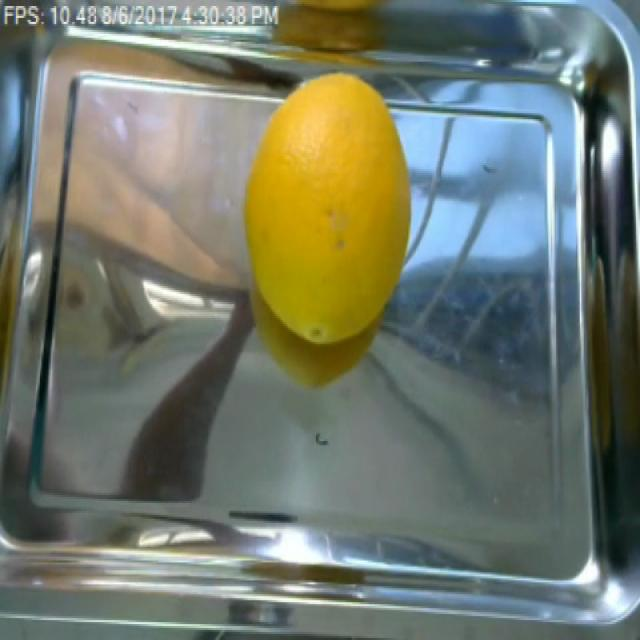Fruit: (229, 62, 416, 390)
